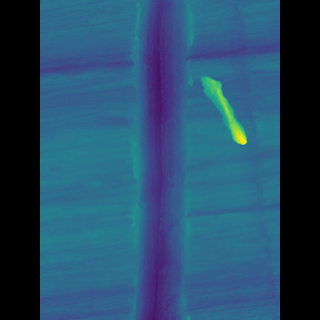Loch: (132, 0, 190, 320), (189, 71, 226, 148)
